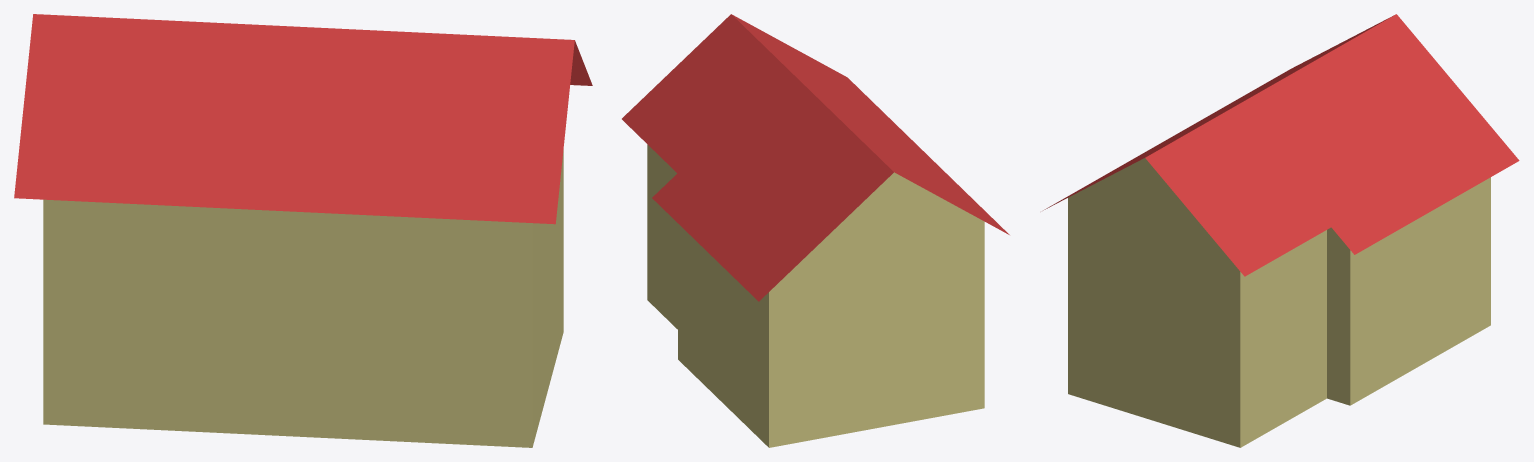
The picture shows the model from 3 angles, left to right: view 1: azimuth 30°, elevation 25°; view 2: azimuth 150°, elevation 25°; view 3: azimuth 270°, elevation 25°; orthographic projection. The views are drawn at different scales.
Size of the model in its own units: 24.01 by 23.43 by 14.6.
